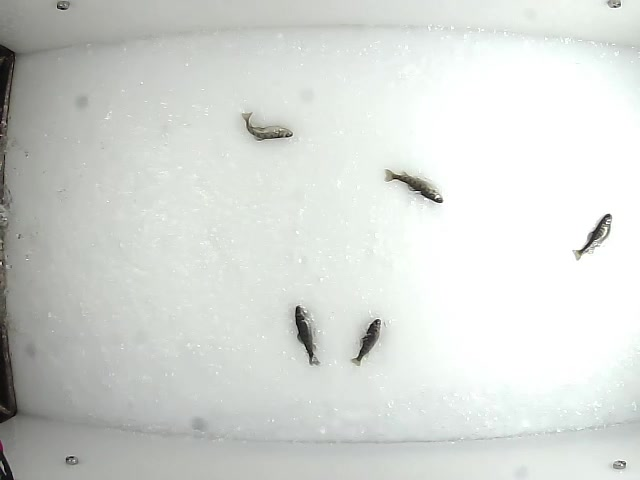fish: (381, 167, 446, 206), (570, 211, 613, 263), (293, 303, 323, 369), (239, 110, 295, 143), (350, 317, 382, 368)
